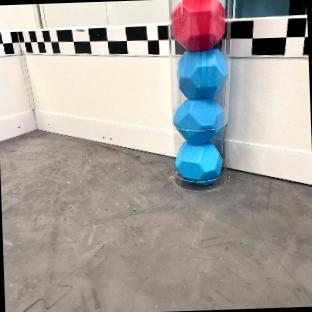V5_BLUE: (176, 47, 227, 98), (174, 99, 224, 141), (175, 141, 222, 185)
V5_RED: (172, 0, 225, 50)
